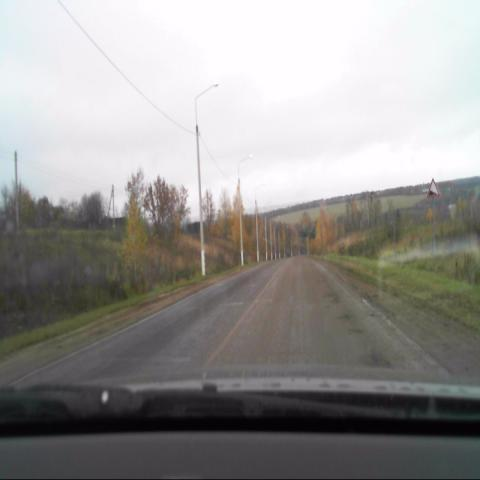1_13: (426, 177, 440, 200)
